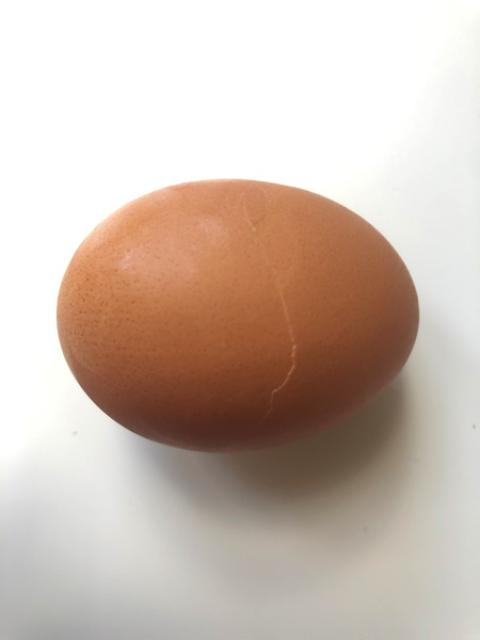Roto: (54, 176, 420, 453)
